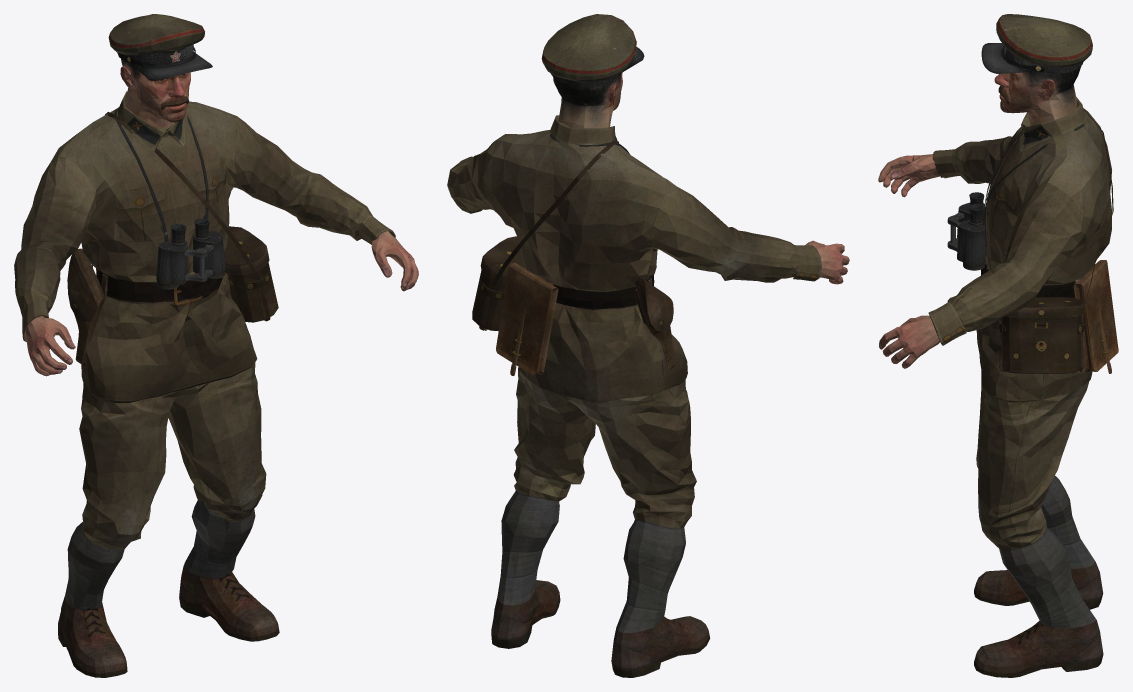
Rendered from soviet_gunner_officer.obj.
3 views of the same model, side by side, from view 1: azimuth 30°, elevation 25°; view 2: azimuth 150°, elevation 25°; view 3: azimuth 270°, elevation 25° (orthographic).
Parts seen in each view (by area): view 1: soviet_gunner_officer_1_0, soviet_gunner_officer_1_1, soviet_gunner_officer_1_2; view 2: soviet_gunner_officer_1_0, soviet_gunner_officer_1_1, soviet_gunner_officer_1_2; view 3: soviet_gunner_officer_1_0, soviet_gunner_officer_1_1, soviet_gunner_officer_1_2.
Boxes of the visible parts, x1=… form: soviet_gunner_officer_1_0: x1=14, y1=91, x2=418, y2=677; soviet_gunner_officer_1_1: x1=67, y1=14, x2=278, y2=366; soviet_gunner_officer_1_2: x1=120, y1=59, x2=190, y2=129; soviet_gunner_officer_1_0: x1=447, y1=115, x2=849, y2=677; soviet_gunner_officer_1_1: x1=472, y1=14, x2=675, y2=375; soviet_gunner_officer_1_2: x1=553, y1=73, x2=622, y2=128; soviet_gunner_officer_1_0: x1=878, y1=96, x2=1111, y2=677; soviet_gunner_officer_1_1: x1=947, y1=14, x2=1118, y2=373; soviet_gunner_officer_1_2: x1=994, y1=65, x2=1081, y2=125.
Bounding box in the file's own units: 1.05 × 1.63 × 0.5811.
Materials: 4 (4 with a texture image).
